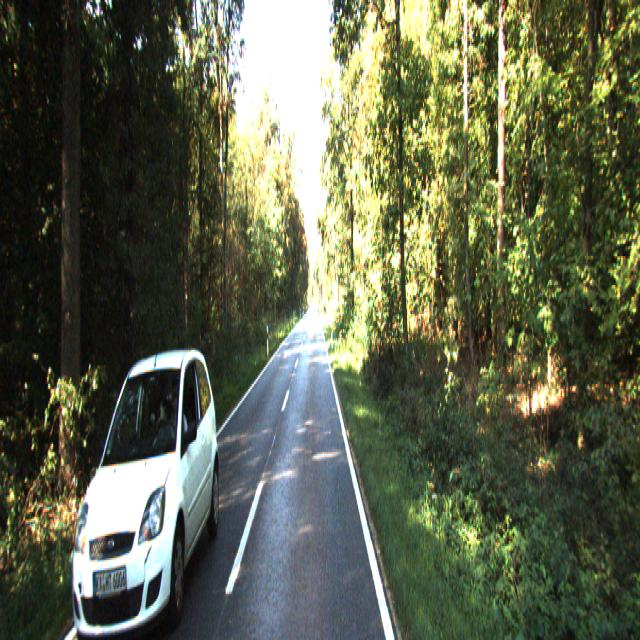Car: (70, 340, 226, 638)
